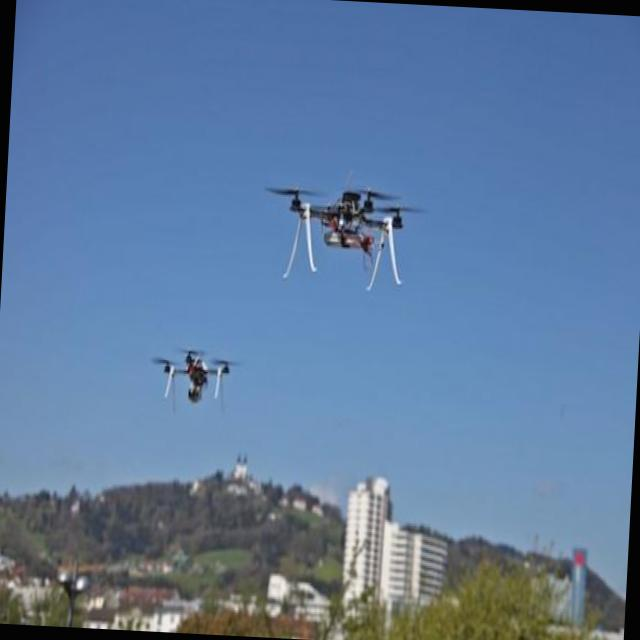drone: (266, 179, 418, 296), (154, 342, 242, 415)
